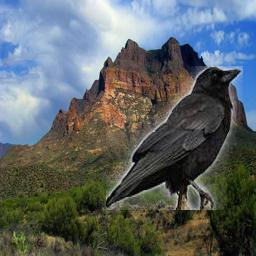Crow: (107, 66, 244, 210)
